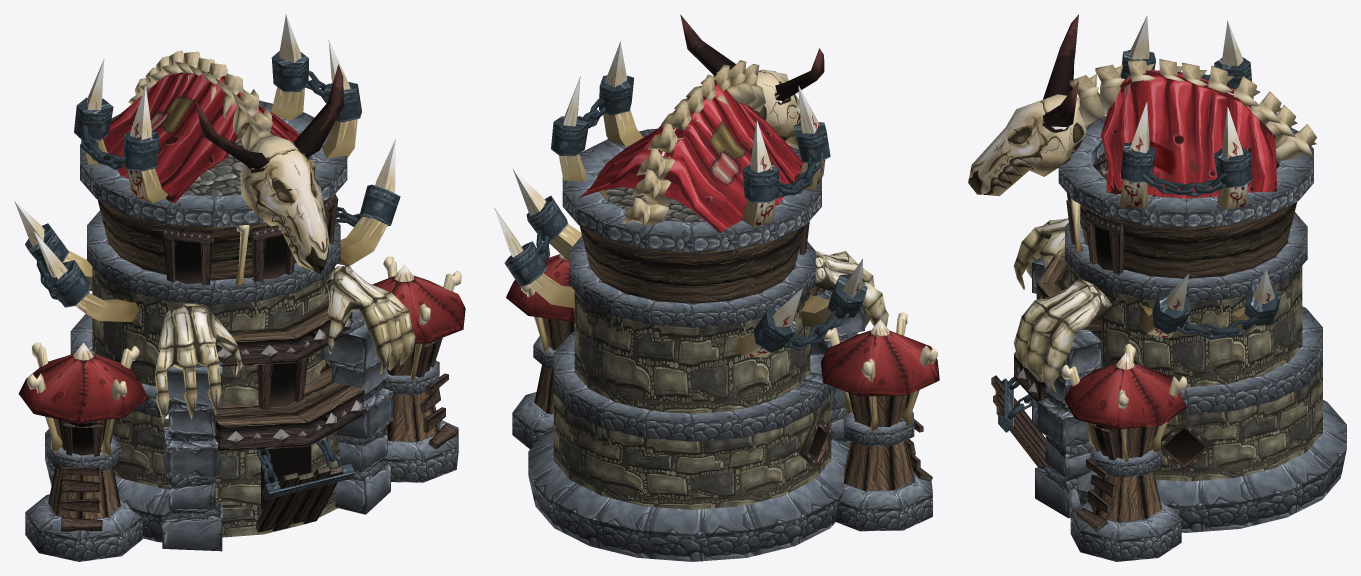
File: Orc_Town_Hall_3.FBX
3 views of the same model, side by side, from view 1: azimuth 30°, elevation 25°; view 2: azimuth 150°, elevation 25°; view 3: azimuth 270°, elevation 25° (orthographic). The views are drawn at different scales.
Parts seen in each view (by area): view 1: build002, columns, vertebra002, column001, awning_tower002 (×2), foundation002 (×2), awning003, roofing005, Object002, Box001, Box002, Object001 (+26 smaller); view 2: build002, column001, awning003, Object001, vertebra002, Object002, awning_tower002 (×2), foundation002 (×2), Wood_wall002 (×2), manacles008, manacles007, fang011 (+10 smaller); view 3: build002, column001, vertebra002, awning003, Object002, Object001, columns, awning_tower002, foundation002, Box002, Wood_wall002, manacles009 (+17 smaller).
Part boxes in pixels (x1=…): build002: x1=92, y1=266, x2=340, y2=537; columns: x1=162, y1=309, x2=392, y2=551; vertebra002: x1=128, y1=50, x2=343, y2=273; column001: x1=45, y1=210, x2=383, y2=542; awning_tower002 (×2): x1=18, y1=264, x2=465, y2=423; foundation002 (×2): x1=25, y1=360, x2=458, y2=561; awning003: x1=103, y1=72, x2=325, y2=202; roofing005: x1=214, y1=366, x2=364, y2=450; Object002: x1=80, y1=100, x2=347, y2=227; Box001: x1=155, y1=303, x2=242, y2=423; Box002: x1=326, y1=264, x2=415, y2=374; Object001: x1=98, y1=200, x2=296, y2=280; build002: x1=553, y1=290, x2=831, y2=509; column001: x1=528, y1=236, x2=849, y2=561; awning003: x1=578, y1=78, x2=802, y2=241; Object001: x1=579, y1=198, x2=804, y2=303; vertebra002: x1=622, y1=14, x2=824, y2=227; Object002: x1=562, y1=128, x2=821, y2=252; awning_tower002 (×2): x1=506, y1=254, x2=939, y2=396; foundation002 (×2): x1=512, y1=336, x2=932, y2=531; Wood_wall002 (×2): x1=534, y1=318, x2=913, y2=491; manacles008: x1=743, y1=122, x2=830, y2=202; manacles007: x1=753, y1=274, x2=867, y2=352; fang011: x1=558, y1=41, x2=643, y2=199; build002: x1=1070, y1=266, x2=1322, y2=481; column001: x1=1065, y1=212, x2=1346, y2=532; vertebra002: x1=968, y1=14, x2=1316, y2=196; awning003: x1=1101, y1=70, x2=1276, y2=198; Object002: x1=1058, y1=116, x2=1313, y2=228; Object001: x1=1080, y1=159, x2=1296, y2=278; columns: x1=1032, y1=257, x2=1102, y2=518; awning_tower002: x1=1064, y1=353, x2=1186, y2=429; foundation002: x1=1070, y1=446, x2=1181, y2=561; Box002: x1=1013, y1=278, x2=1113, y2=394; Wood_wall002: x1=1090, y1=426, x2=1161, y2=521; manacles009: x1=1120, y1=142, x2=1252, y2=196.
Bounding box in the file's own units: 6285 × 4982 × 6062.
